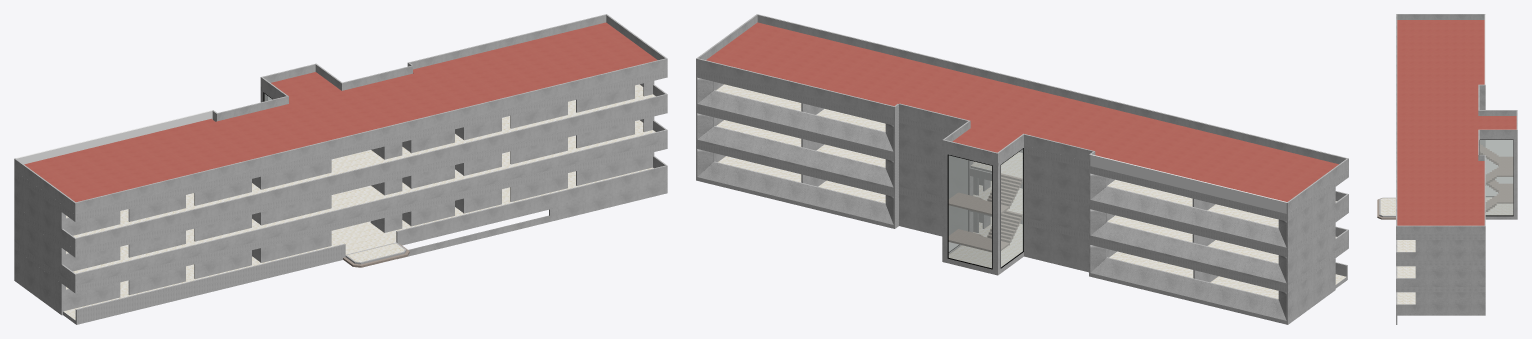
Rendered from MUROS.fbx.
3 renders of one model, left to right at view 1: azimuth 30°, elevation 25°; view 2: azimuth 150°, elevation 25°; view 3: azimuth 270°, elevation 25°, orthographic. The views are drawn at different scales.
Parts seen in each view (by area): view 1: Group1, Unir, Group60, Group10, Group110, FALDON, FALDON2, FALDON1, Group109, Group99, Group90, Group12 (+13 smaller); view 2: Group1, Unir, Group81, FALDON2, FALDON1, FALDON, Group149, ENTREPISO, ENTREPISO1, Group111, Group117, Group72 (+23 smaller); view 3: Group1, Group133, Unir, Group103, Group7, Group43, Group141, FALDON2, Group81, FALDON, FALDON1, Unir1 (+17 smaller).
Boxes of the visible parts, left/top/right/bottom form: Group1: left=24, top=22, right=657, bottom=202; Unir: left=14, top=14, right=667, bottom=214; Group60: left=76, top=129, right=667, bottom=285; Group10: left=76, top=94, right=667, bottom=249; Group110: left=396, top=165, right=667, bottom=259; FALDON: left=14, top=70, right=667, bottom=221; FALDON2: left=14, top=105, right=667, bottom=257; FALDON1: left=14, top=141, right=667, bottom=293; Group109: left=75, top=244, right=345, bottom=324; Group99: left=61, top=231, right=331, bottom=311; Group90: left=383, top=152, right=654, bottom=232; Group12: left=61, top=159, right=331, bottom=239; Group1: left=706, top=22, right=1338, bottom=201; Unir: left=696, top=14, right=1348, bottom=214; Group81: left=697, top=156, right=1346, bottom=324; FALDON2: left=696, top=105, right=1348, bottom=257; FALDON1: left=696, top=141, right=1348, bottom=292; FALDON: left=696, top=70, right=1348, bottom=221; Group149: left=948, top=155, right=991, bottom=268; ENTREPISO: left=697, top=84, right=1336, bottom=249; ENTREPISO1: left=697, top=120, right=1336, bottom=285; Group111: left=698, top=162, right=893, bottom=224; Group117: left=1091, top=258, right=1286, bottom=320; Group72: left=1090, top=222, right=1286, bottom=283; Group1: left=1397, top=20, right=1516, bottom=225; Group133: left=1480, top=140, right=1513, bottom=215; Unir: left=1396, top=14, right=1485, bottom=234; Group103: left=1415, top=292, right=1485, bottom=315; Group7: left=1415, top=240, right=1485, bottom=260; Group43: left=1415, top=266, right=1485, bottom=286; Group141: left=1480, top=140, right=1512, bottom=195; FALDON2: left=1396, top=260, right=1485, bottom=266; Group81: left=1397, top=197, right=1513, bottom=304; FALDON: left=1396, top=234, right=1485, bottom=239; FALDON1: left=1396, top=287, right=1485, bottom=292; Unir1: left=1478, top=110, right=1517, bottom=160.
Bounding box in the file's own units: 66.04 × 14.34 × 18.49.
